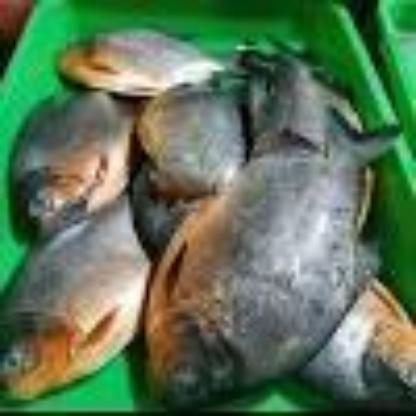ikan-pacu: (146, 146, 364, 408), (0, 203, 132, 415), (0, 91, 130, 223)
